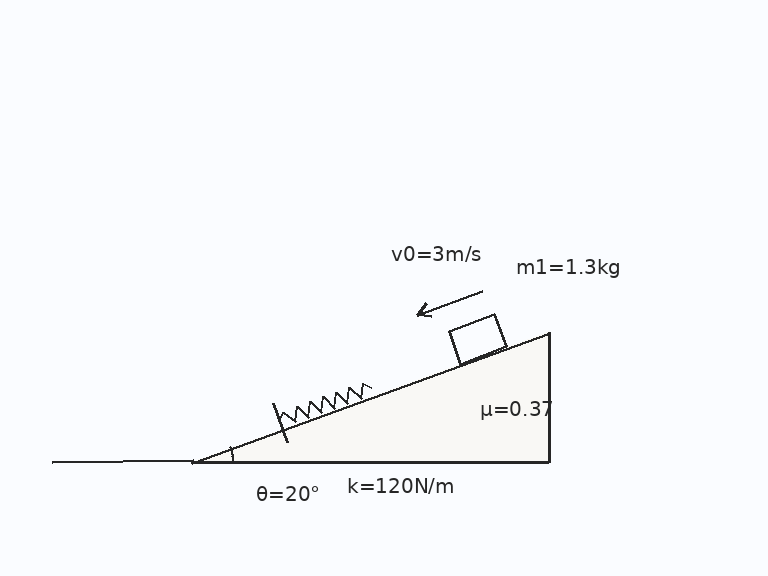block: (446, 312, 508, 366)
ramp: (191, 329, 551, 463)
spring: (277, 380, 374, 424)
